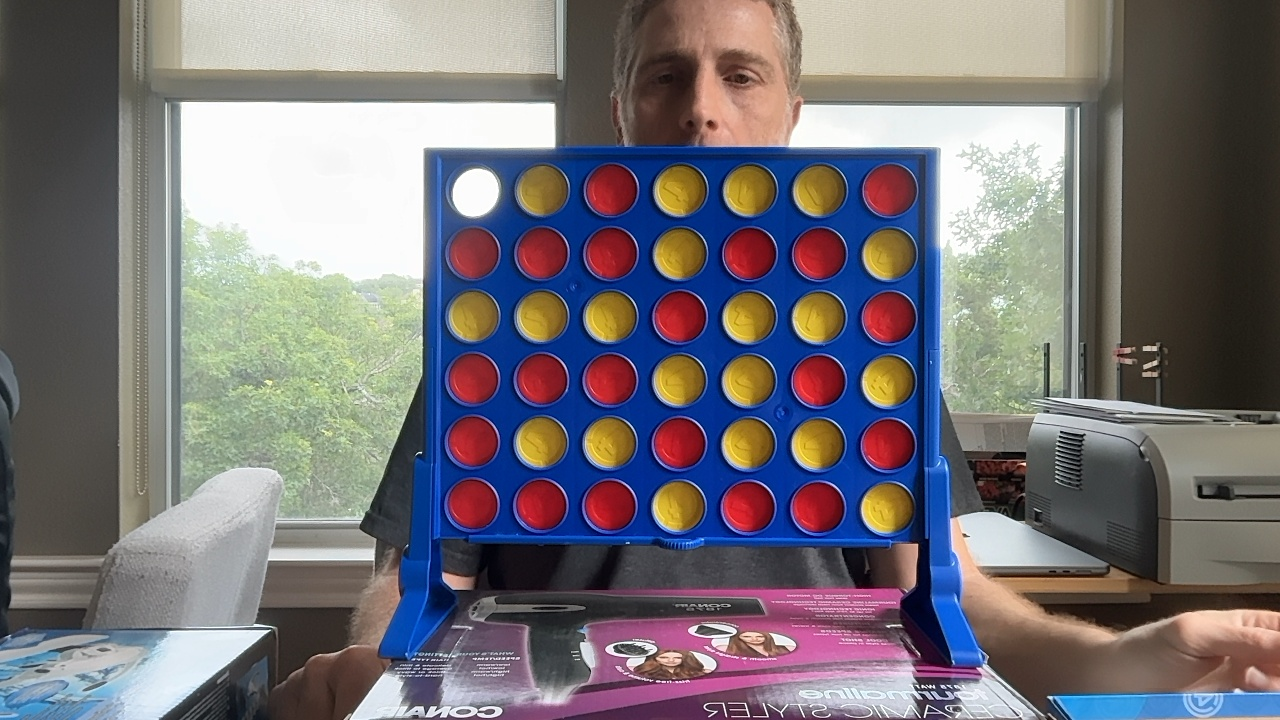red piece: (791, 354, 846, 407), (792, 227, 846, 280), (863, 163, 917, 216), (723, 227, 776, 280), (584, 227, 637, 280), (653, 290, 706, 343), (584, 353, 637, 406), (862, 291, 916, 343), (653, 416, 705, 470), (861, 418, 915, 470), (721, 481, 775, 533), (515, 227, 568, 279), (515, 353, 568, 405), (585, 163, 637, 216), (791, 481, 844, 533), (446, 227, 499, 279), (583, 479, 636, 531), (446, 415, 498, 467), (445, 478, 497, 530), (515, 479, 566, 531), (447, 353, 498, 404)
yellow piece: (792, 291, 846, 344), (793, 164, 846, 217), (722, 354, 775, 407), (583, 416, 636, 469), (514, 416, 567, 469), (722, 417, 774, 471), (515, 290, 568, 342), (723, 164, 776, 216), (654, 163, 706, 216), (653, 354, 705, 407), (583, 290, 636, 342), (652, 480, 705, 532), (861, 482, 914, 534), (653, 227, 706, 279), (722, 291, 775, 343), (862, 228, 915, 280), (446, 290, 498, 342), (862, 355, 914, 407), (516, 164, 568, 216), (792, 418, 844, 470)
